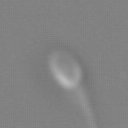normal: (75, 84, 102, 127)
